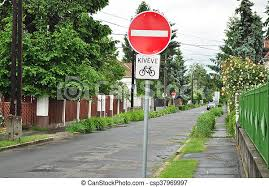No entry: (127, 11, 172, 54)
